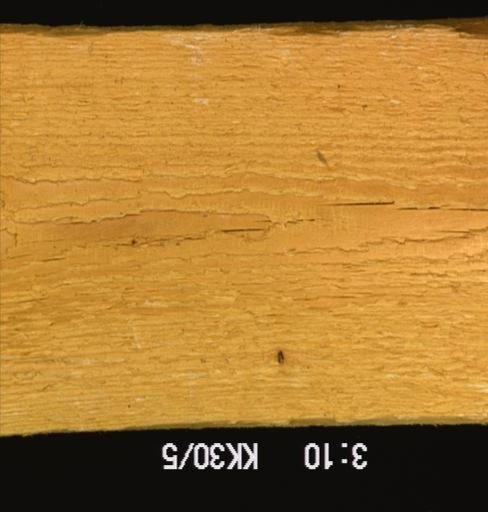small_knot: (271, 347, 290, 369)
split: (105, 222, 264, 256), (320, 193, 486, 223), (12, 249, 75, 270)
wave: (252, 15, 486, 44), (223, 412, 485, 428), (0, 25, 167, 44)
